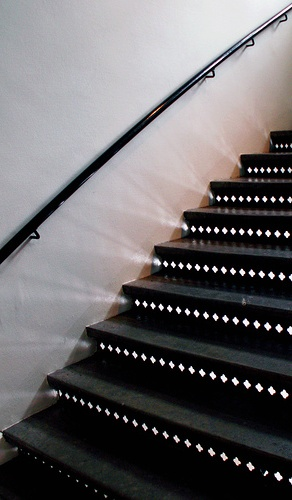stairs_up: (1, 125, 290, 498)
